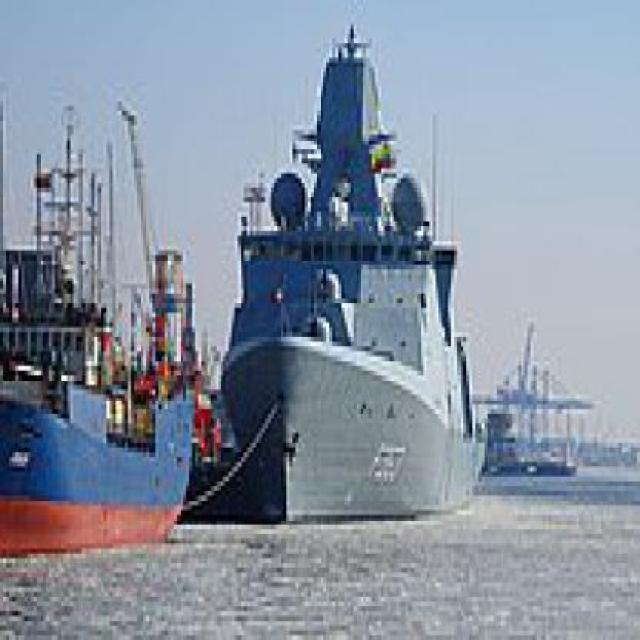warship2: (209, 1, 489, 530)
